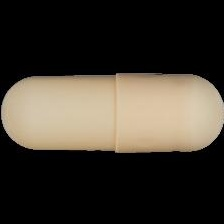0591-3137: (0, 0, 224, 224)
